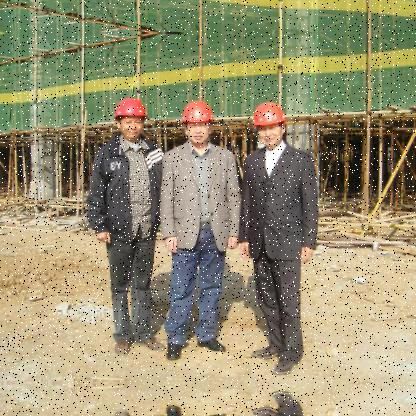helmet: (181, 96, 219, 146), (254, 98, 290, 149), (112, 94, 151, 141)
